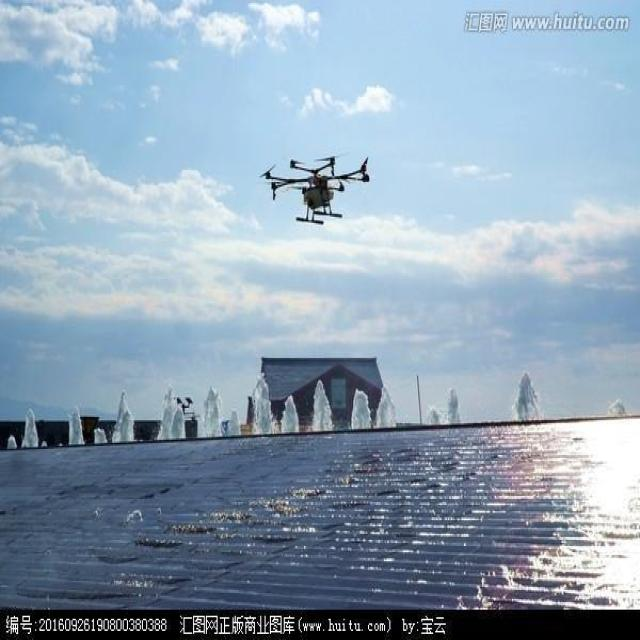drone: (262, 154, 371, 227)
